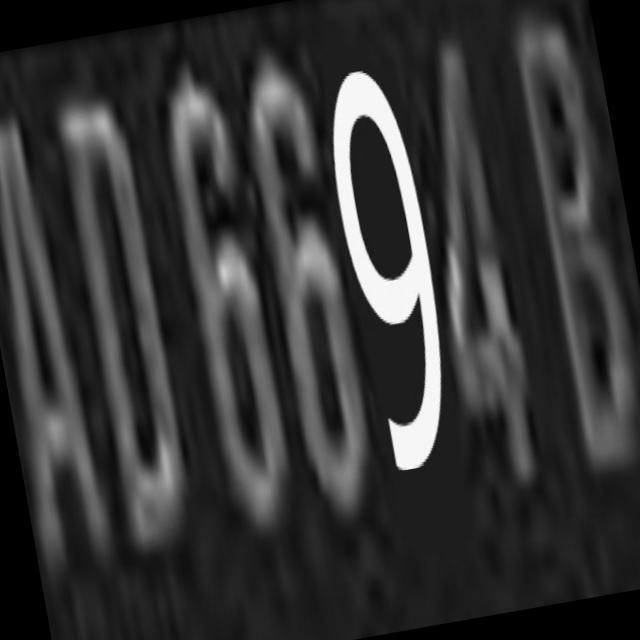4: (394, 29, 555, 502)
6: (154, 72, 306, 532), (243, 51, 376, 508)
9: (321, 55, 464, 498)
A: (0, 79, 117, 578)
B: (481, 1, 640, 487)
D: (76, 97, 194, 544)
